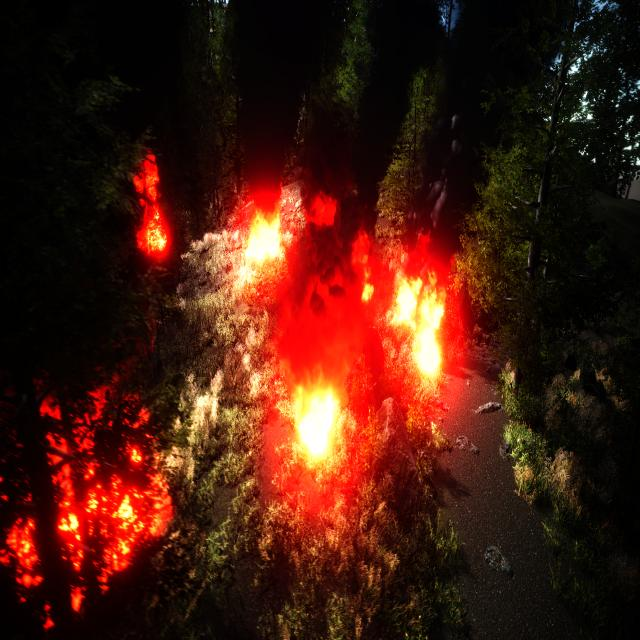Human: (392, 330, 403, 370)
